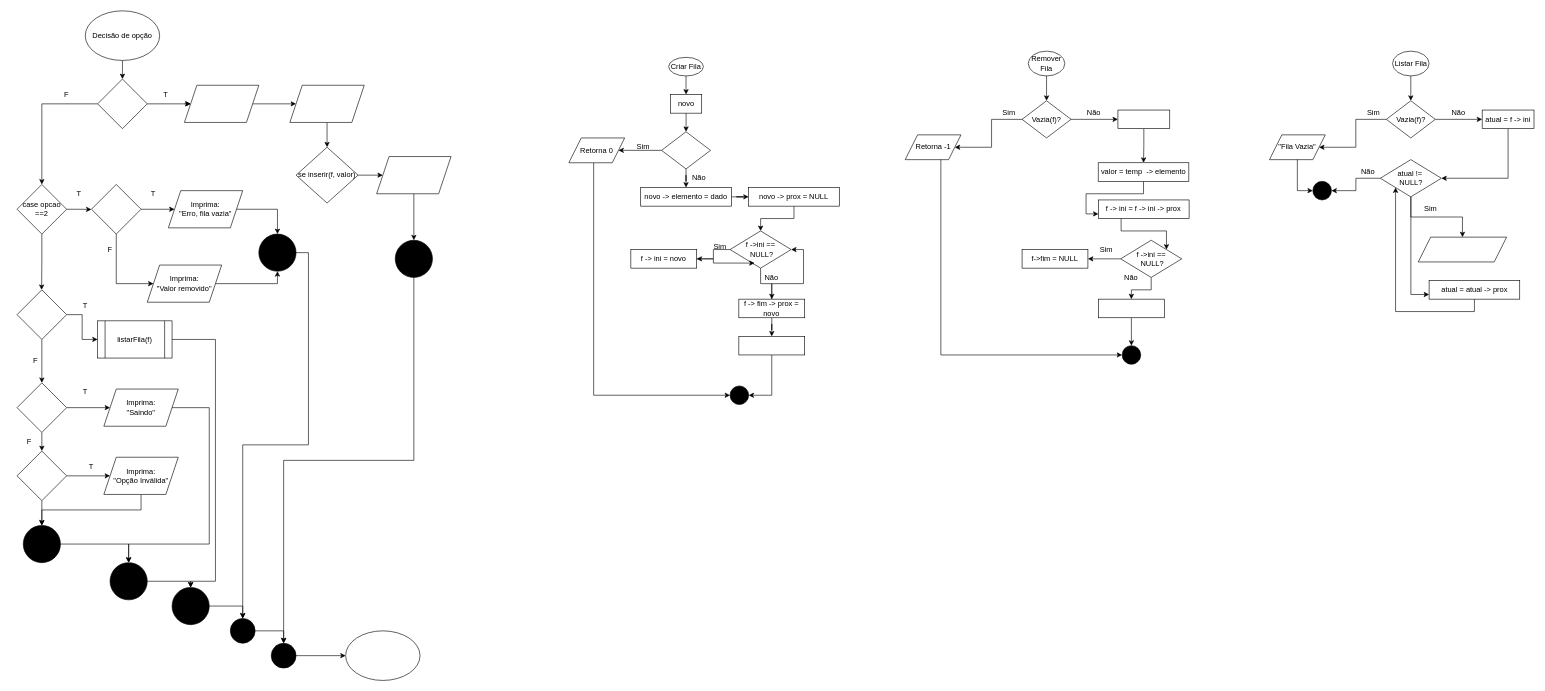
The diagram is 1545 pixels wide and 691 high, and some of its shapes have lost their labels. Each missing label, with the box of its shape:
atual -> elemento: (1418, 237, 1507, 262)
case default: (16, 450, 67, 501)
case opcao == 0: (16, 382, 67, 432)
Case opcao == 1: (97, 78, 147, 129)
case opcao == 3: (16, 289, 67, 339)
f -> fim = novo: (738, 336, 805, 355)
Fim decisão de opção: (345, 630, 420, 680)
free (temp): (1098, 299, 1164, 318)
Guardar em valor: (289, 85, 364, 122)
Imprima: "Sucesso": (376, 156, 451, 194)
Imprime: "Insira o valor": (184, 85, 259, 122)
novo == NULL?: (661, 131, 711, 169)
Se vazia(f): (91, 184, 141, 234)
temp = f->ini: (1117, 109, 1170, 129)
